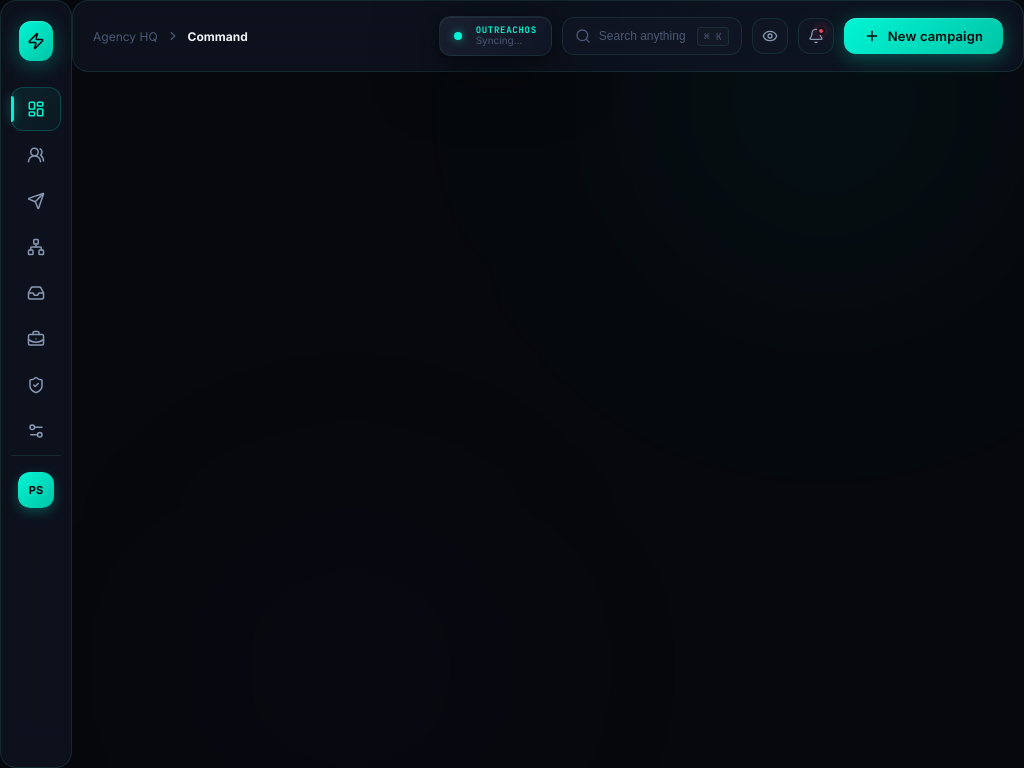
Outr application shell › opens the live workspace preview
The width and height of the screenshot is (1024, 768).
Click the button named "Live preview".
click(770, 36)  # box [752, 18, 788, 54]
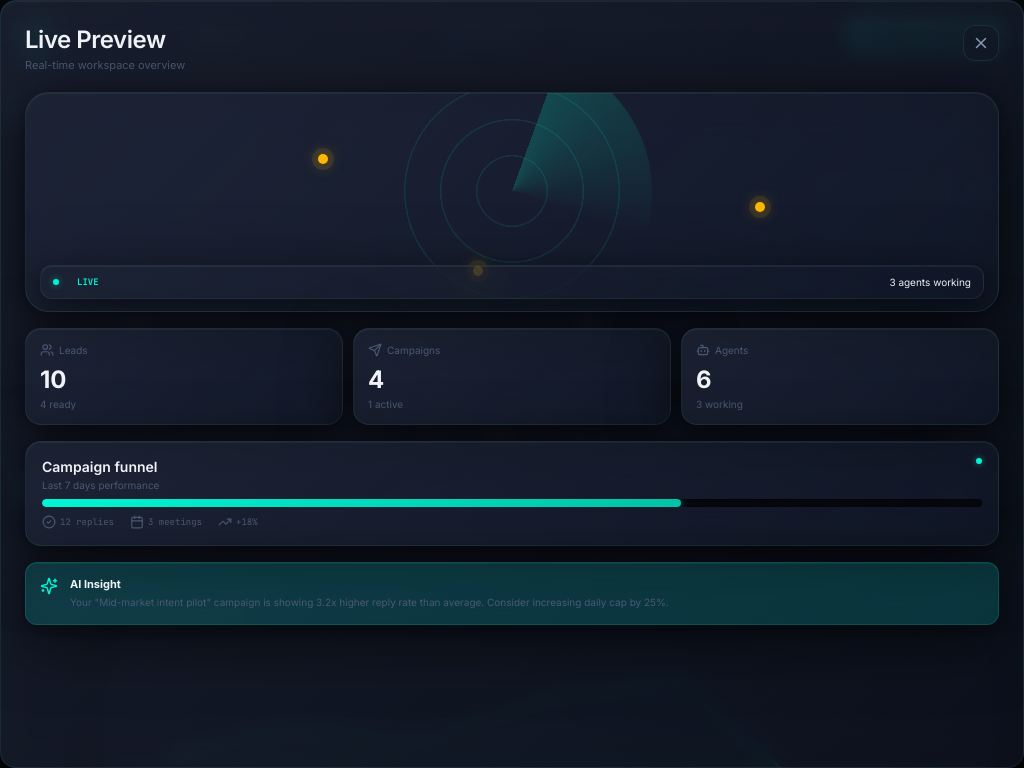
Result: the dialog "Live Preview" is shown
Result: the heading "Live Preview" is shown at [25, 25, 185, 54]
